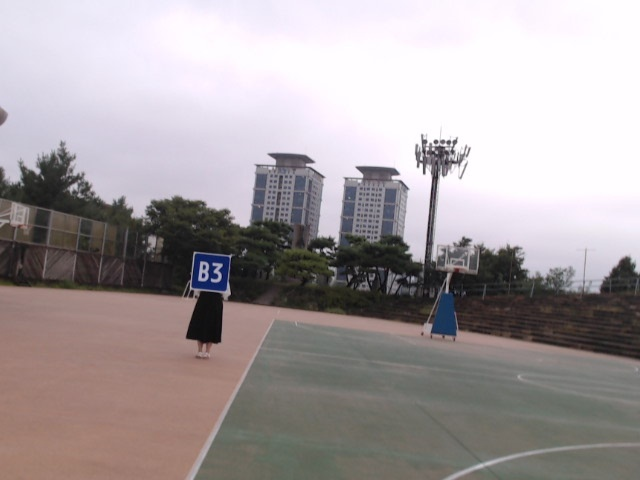delivery_b3: (191, 252, 231, 292)
